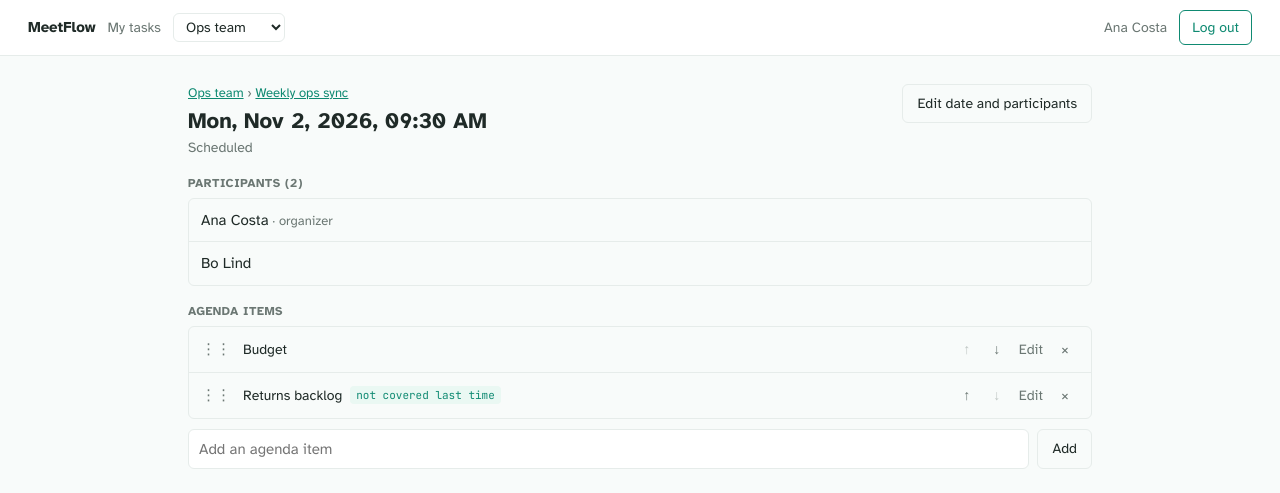
it: the agenda › reloads the agenda and says so when it changed meanwhile
Click the button named "Move Budget down".
click(997, 349)  # box [983,336,1011,362]
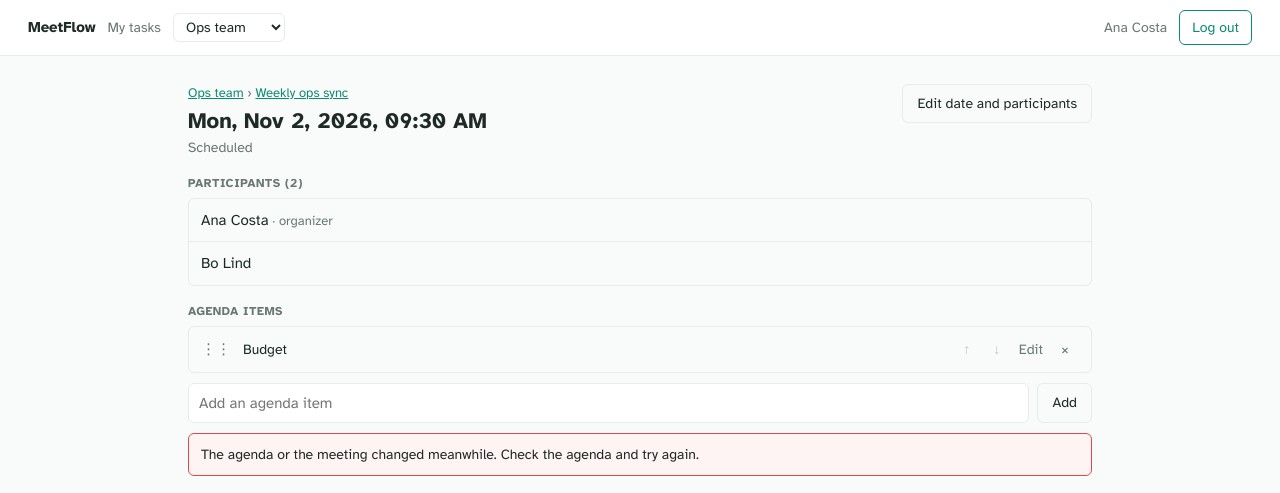
Now the message shows "changed meanwhile", box [201,446,699,463]
Now the text "Returns backlog" is gone
